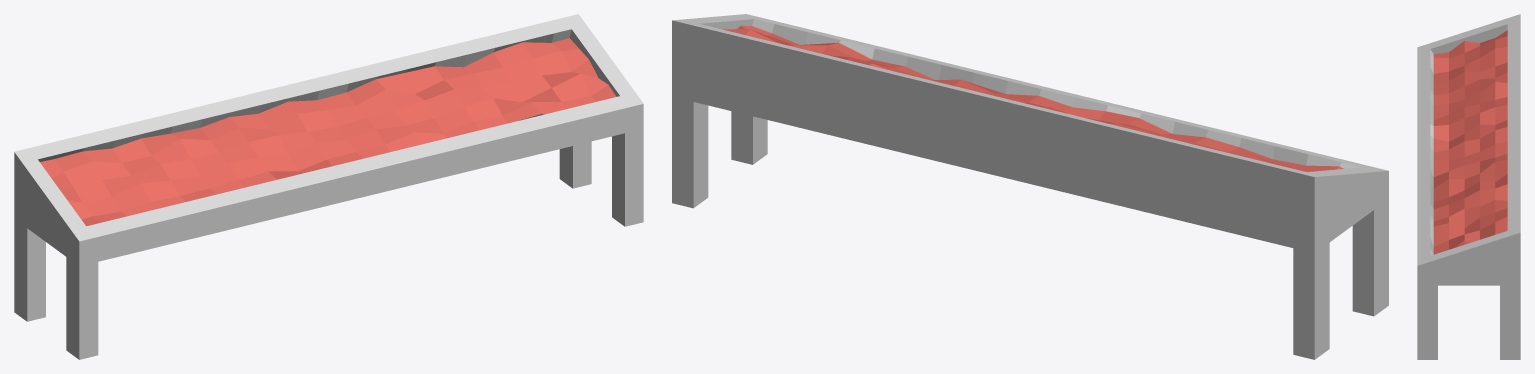
Rendered from market_stand.fbx.
3 renders of one model, left to right at view 1: azimuth 30°, elevation 25°; view 2: azimuth 150°, elevation 25°; view 3: azimuth 270°, elevation 25°, orthographic. The views are drawn at different scales.
Parts seen in each view (by area): view 1: market_stand; view 2: market_stand; view 3: market_stand.
Boxes of the visible parts, x1=… form: market_stand: x1=14, y1=14, x2=643, y2=359; market_stand: x1=672, y1=14, x2=1388, y2=359; market_stand: x1=1417, y1=14, x2=1520, y2=359.
Bounding box in the file's own units: 1000 × 272 × 200.
